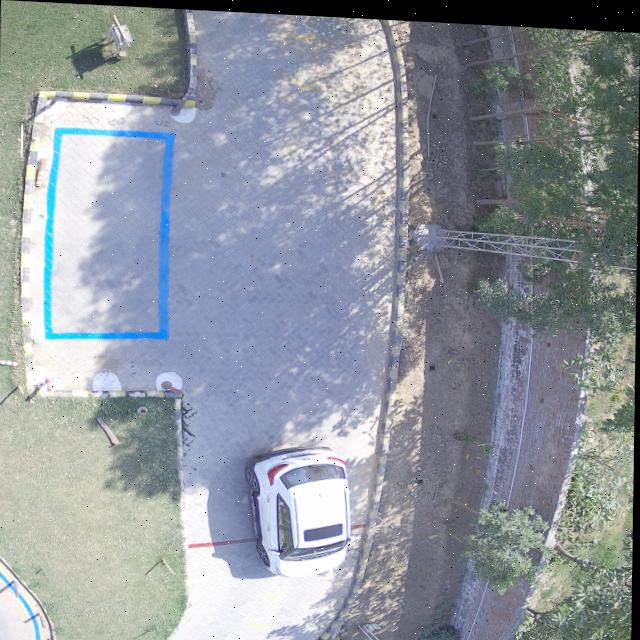car: (248, 443, 353, 575)
